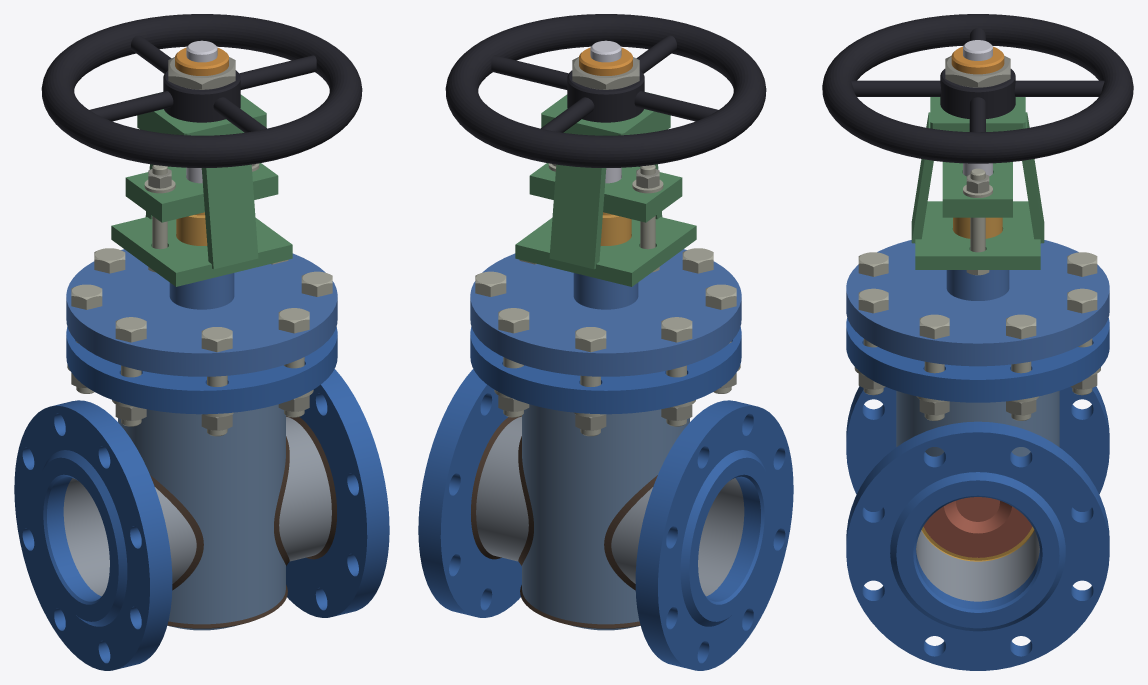
Rendered from zadvizhka.glb.
3 renders of one model, left to right at view 1: azimuth 30°, elevation 25°; view 2: azimuth 150°, elevation 25°; view 3: azimuth 270°, elevation 25°, orthographic. The views are drawn at different scales.
Parts seen in each view (by area): view 1: p1_korpus__03_flanec_patrubka_L, p3_makhovik, p1_korpus__02_stakan, kryshka, p1_korpus__03_flanec_patrubka_R, p1_korpus__04_flanec_stakana, p1_korpus__01_patrubok_L, p1_korpus__01_patrubok_R, p2_traversa_niz, stoyka_2, p4_flanec_salnika, traversa_verkh (+15 smaller); view 2: p1_korpus__03_flanec_patrubka_L, p3_makhovik, p1_korpus__02_stakan, kryshka, p1_korpus__03_flanec_patrubka_R, p1_korpus__04_flanec_stakana, p1_korpus__01_patrubok_L, p1_korpus__01_patrubok_R, p2_traversa_niz, stoyka_1, p4_flanec_salnika, traversa_verkh (+15 smaller); view 3: p1_korpus__03_flanec_patrubka_R, p3_makhovik, kryshka, p1_korpus__04_flanec_stakana, p1_korpus__03_flanec_patrubka_L, p2_traversa_niz, p1_korpus__01_patrubok_R, p5_klin, p1_korpus__02_stakan, p4_flanec_salnika, traversa_verkh, stoyka_1 (+13 smaller).
Boxes of the visible parts, <box> form: p1_korpus__03_flanec_patrubka_L: <box>14,400,172,670</box>; p3_makhovik: <box>41,14,362,167</box>; p1_korpus__02_stakan: <box>118,404,285,624</box>; kryshka: <box>66,249,337,376</box>; p1_korpus__03_flanec_patrubka_R: <box>286,369,389,617</box>; p1_korpus__04_flanec_stakana: <box>66,327,337,414</box>; p1_korpus__01_patrubok_L: <box>63,478,196,596</box>; p1_korpus__01_patrubok_R: <box>279,416,331,561</box>; p2_traversa_niz: <box>111,217,292,286</box>; stoyka_2: <box>201,164,258,269</box>; p4_flanec_salnika: <box>125,163,278,222</box>; traversa_verkh: <box>137,93,266,135</box>; p1_korpus__03_flanec_patrubka_L: <box>635,400,793,670</box>; p3_makhovik: <box>445,14,766,167</box>; p1_korpus__02_stakan: <box>522,404,689,624</box>; kryshka: <box>470,249,741,376</box>; p1_korpus__03_flanec_patrubka_R: <box>418,369,521,617</box>; p1_korpus__04_flanec_stakana: <box>470,327,741,414</box>; p1_korpus__01_patrubok_L: <box>611,478,744,596</box>; p1_korpus__01_patrubok_R: <box>476,416,528,561</box>; p2_traversa_niz: <box>515,217,696,286</box>; stoyka_1: <box>549,164,606,269</box>; p4_flanec_salnika: <box>529,163,682,222</box>; traversa_verkh: <box>541,93,670,135</box>; p1_korpus__03_flanec_patrubka_R: <box>846,421,1109,670</box>; p3_makhovik: <box>822,14,1133,163</box>; kryshka: <box>846,240,1109,366</box>; p1_korpus__04_flanec_stakana: <box>846,318,1109,402</box>; p1_korpus__03_flanec_patrubka_L: <box>846,386,1109,511</box>; p2_traversa_niz: <box>915,201,1040,269</box>; p1_korpus__01_patrubok_R: <box>916,530,1039,601</box>; p5_klin: <box>923,497,1032,557</box>; p1_korpus__02_stakan: <box>896,391,1059,456</box>; p4_flanec_salnika: <box>942,162,1012,217</box>; traversa_verkh: <box>930,97,1025,131</box>; stoyka_1: <box>1022,112,1044,243</box>.
Size of the model in its own units: 248 by 500 by 248.
